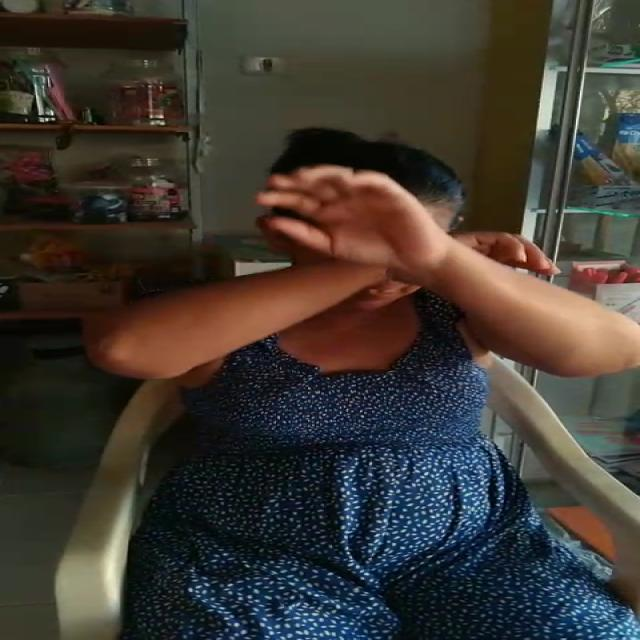7_mano_rostro: (262, 163, 470, 335)
